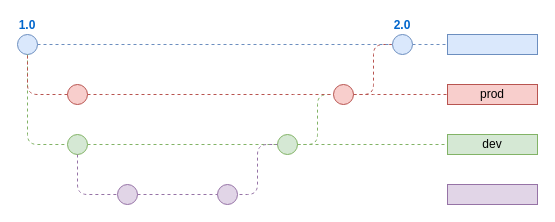
Some shapes in this 555 by 222 pixel diagram are drawn without their labels. Here are the shapes that lost their labels. From the top down, the centre of each, then its label:
point (492, 44): main
point (492, 194): features
